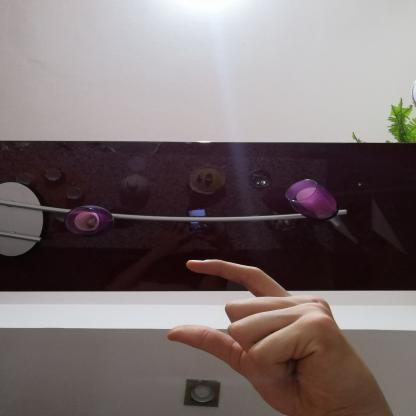DELL: (154, 248, 389, 414)
